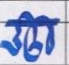i_matra: (38, 15, 54, 54)
